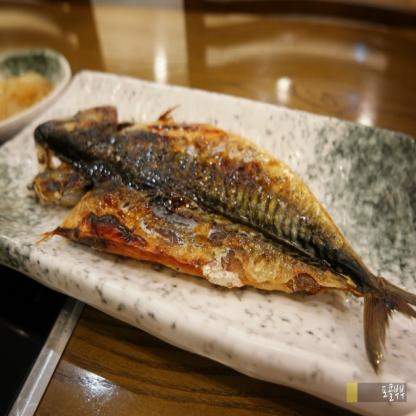Peixe: (30, 90, 415, 398)
